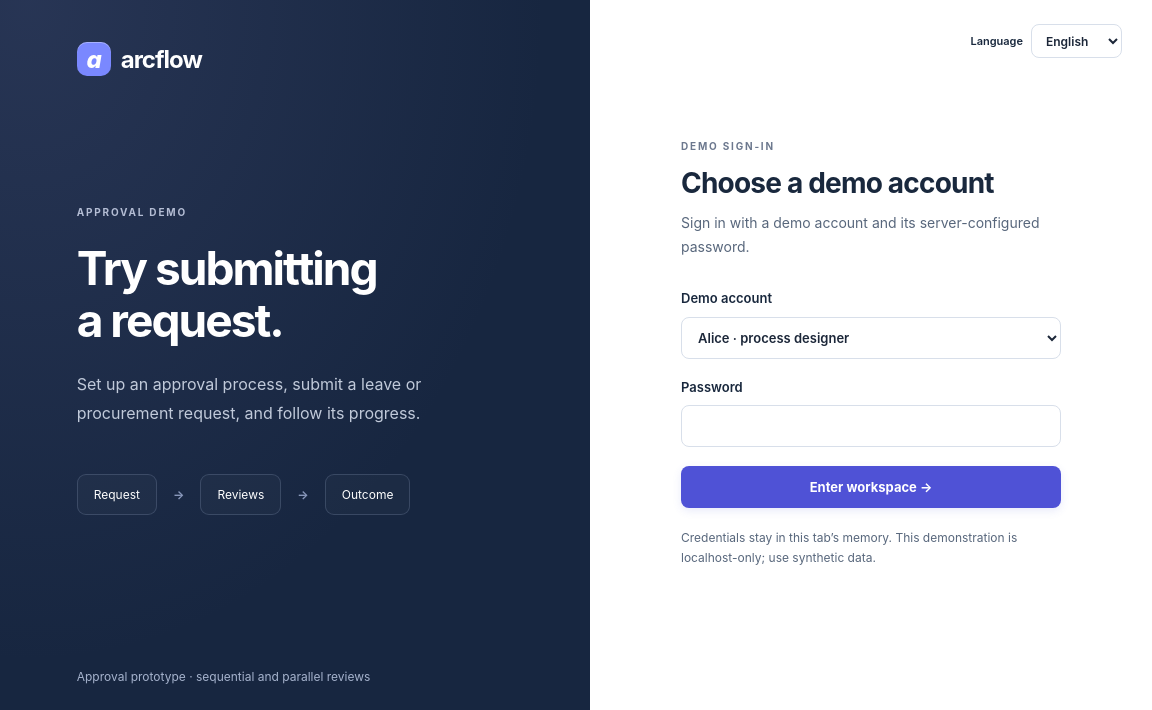
it: paginated member worklists › cancels stale filter requests and resets only that box to the first page
Type "test-only" into the password field labelled "Password" at [871, 426], box [681, 405, 1061, 447]
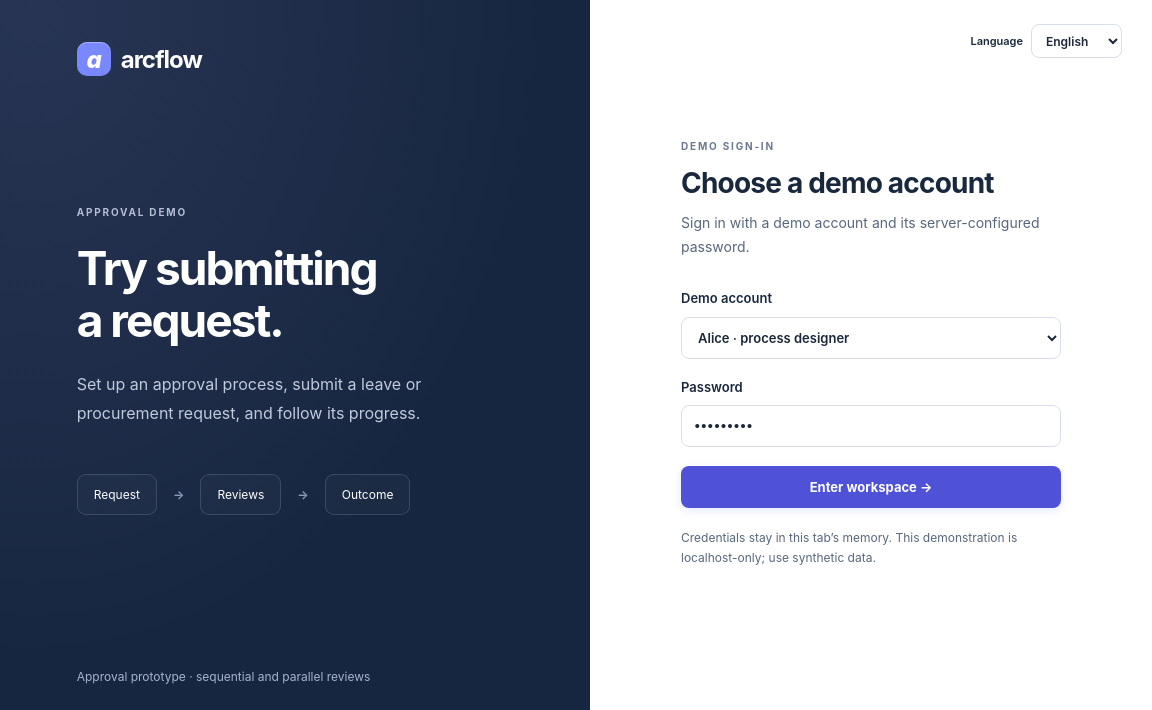
Submit the form with class "login-form", box [681, 139, 1061, 581]
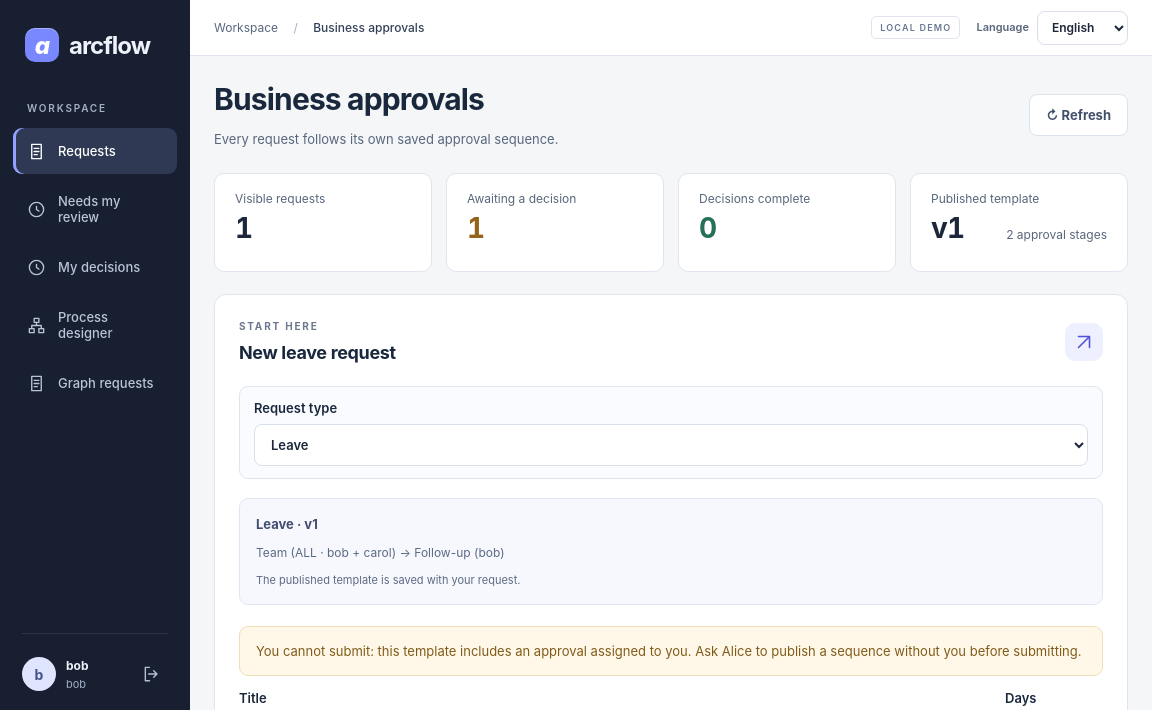
Click the button "Needs my review" at [95, 209], box [13, 180, 177, 238]
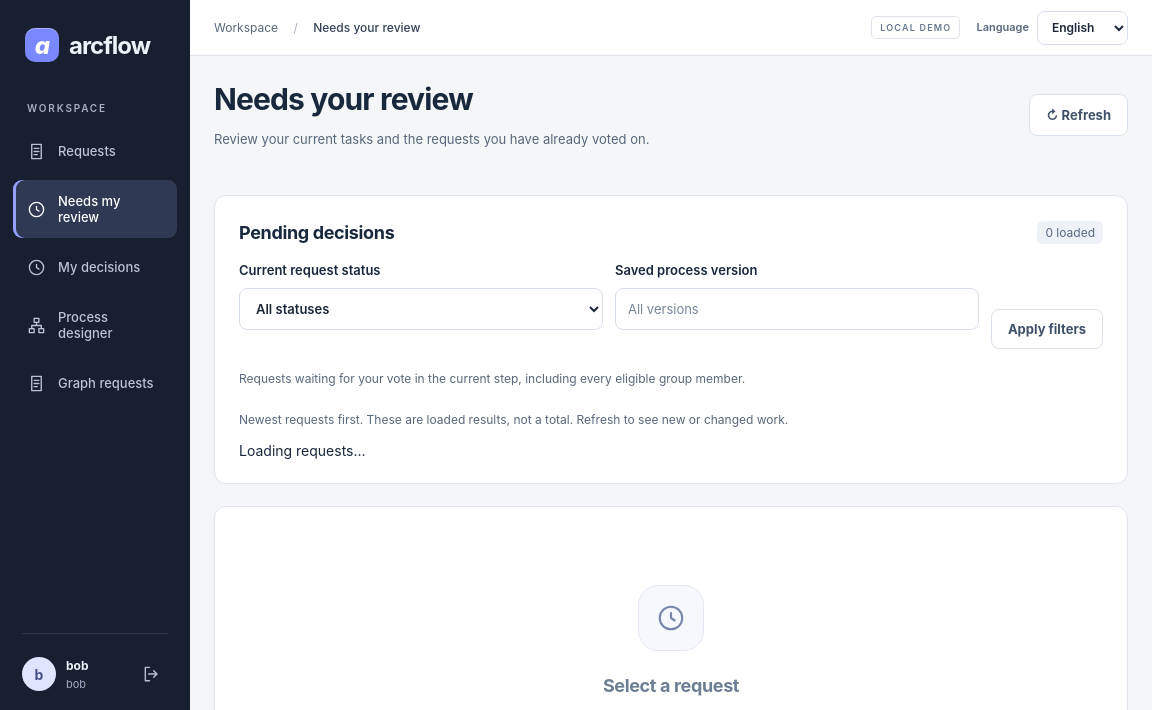
Select "approved" in the dropdown labelled "Current request status" at [421, 309], box [239, 288, 603, 330]
Type "2" into the number field labelled "Saved process version" at [797, 309], box [615, 288, 979, 330]
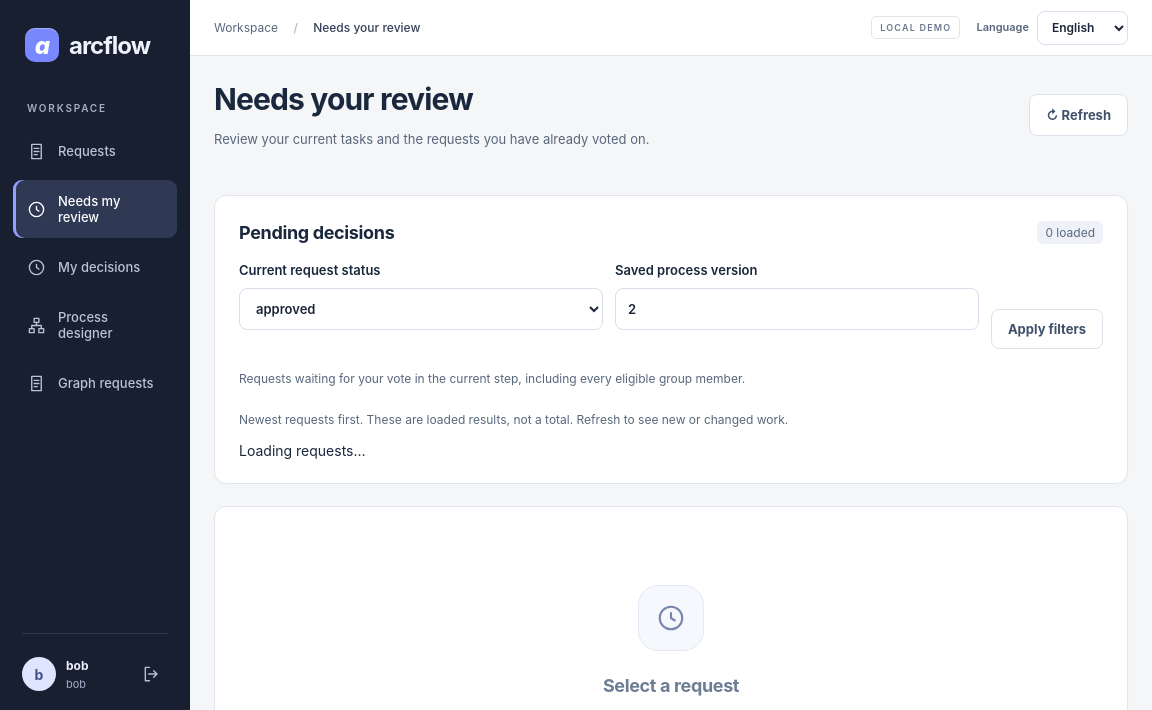
Submit the form, box [239, 261, 1103, 349]
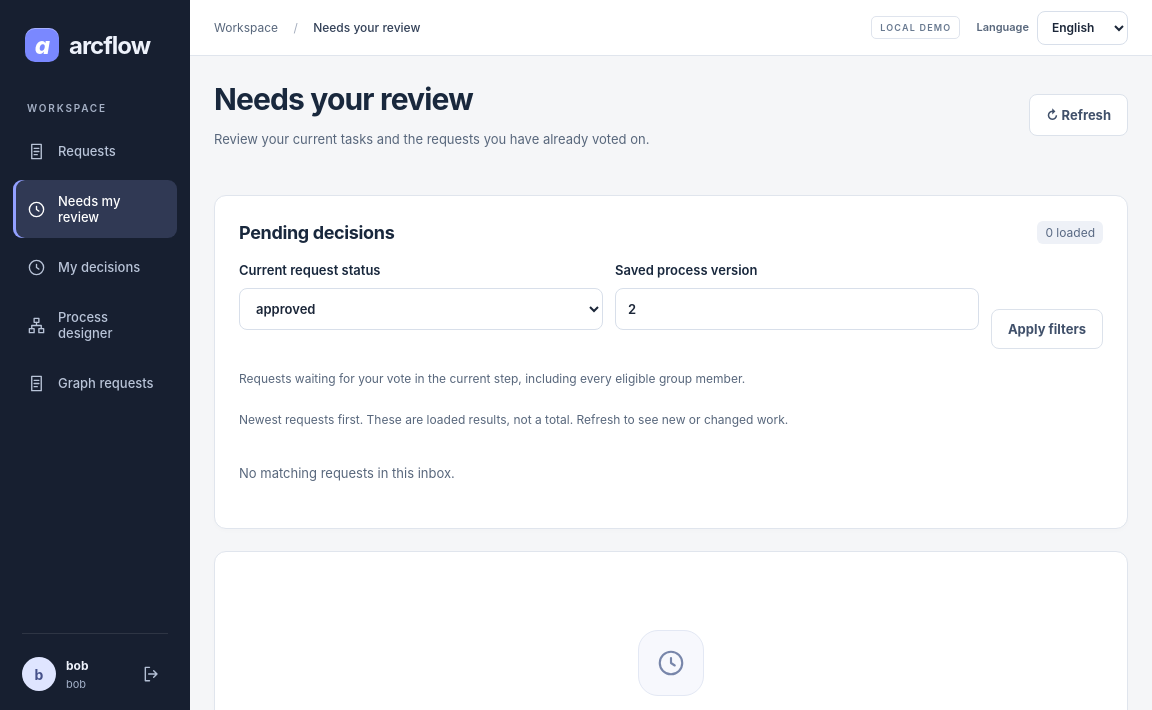
Select "简体中文" in the dropdown labelled "Language" at [1082, 28], box [1037, 10, 1128, 44]
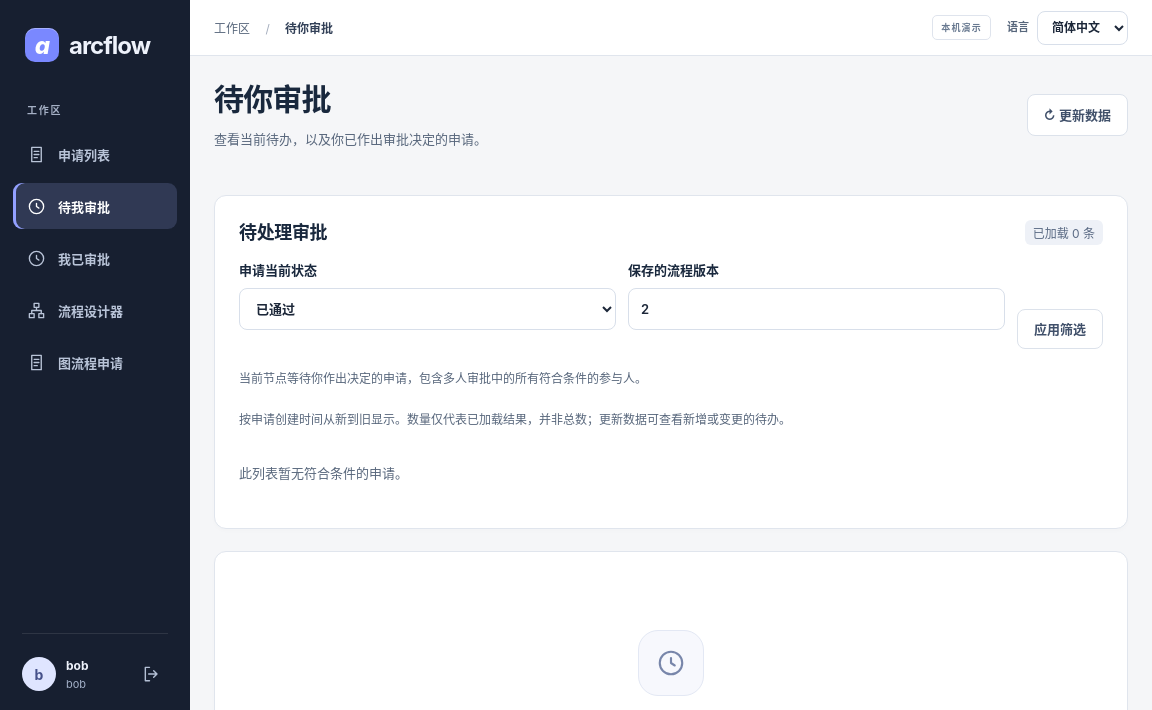
Expected: the text "已加载 0 条" is shown, [1025, 220, 1103, 245]
Expected: the text "此列表暂无符合条件的申请" is shown, [239, 465, 408, 481]
